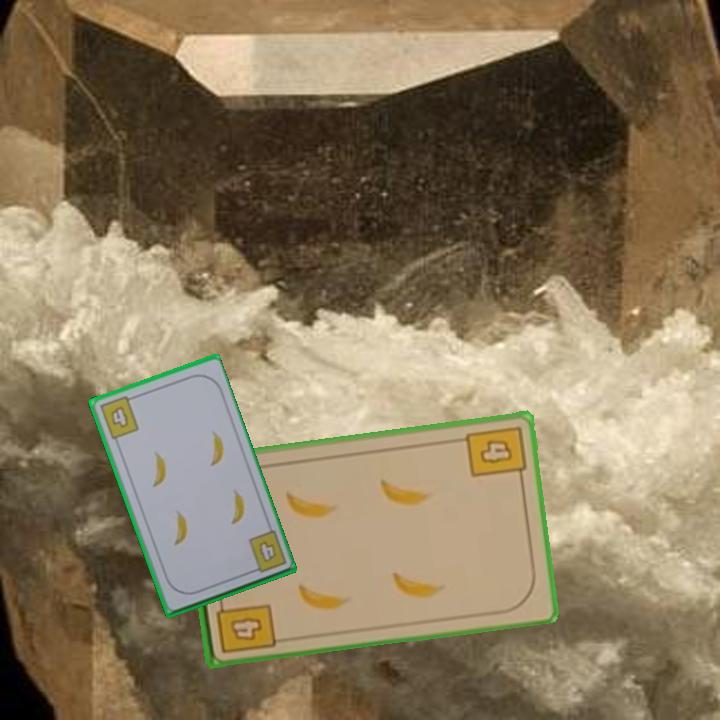4b: (212, 592, 278, 656), (462, 422, 529, 485), (96, 392, 142, 442), (245, 527, 289, 576)
